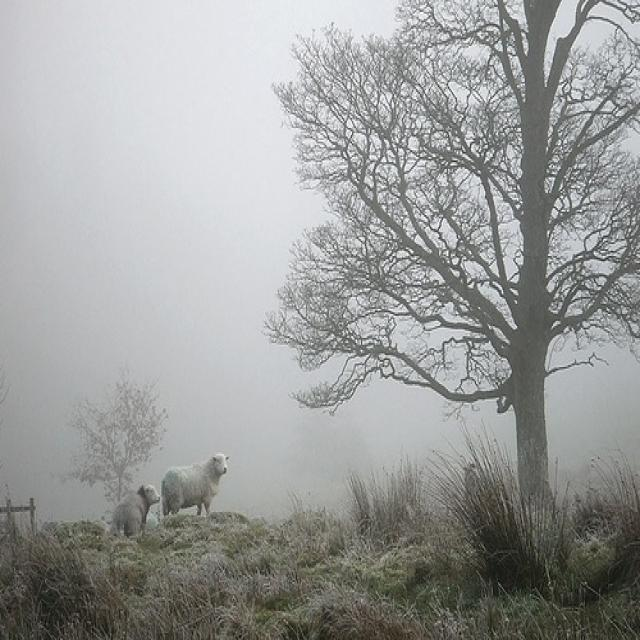sheep: (168, 453, 227, 518), (110, 486, 162, 537)
